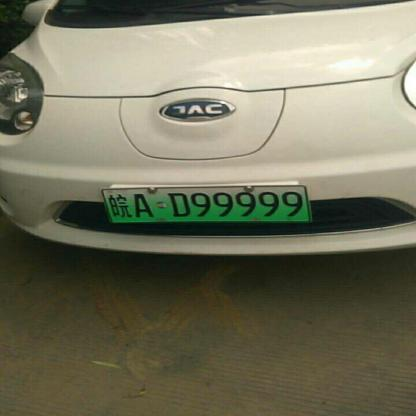lp: (102, 188, 310, 223)
